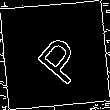P_NW: (24, 24, 86, 86)
